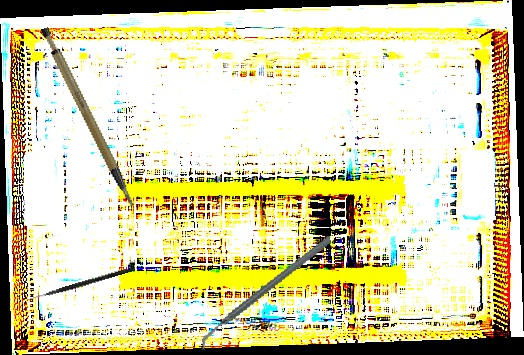Chopper: (182, 235, 350, 351)
Hook Surgical: (26, 265, 135, 304)
Scalpel Handle: (37, 18, 135, 218)
